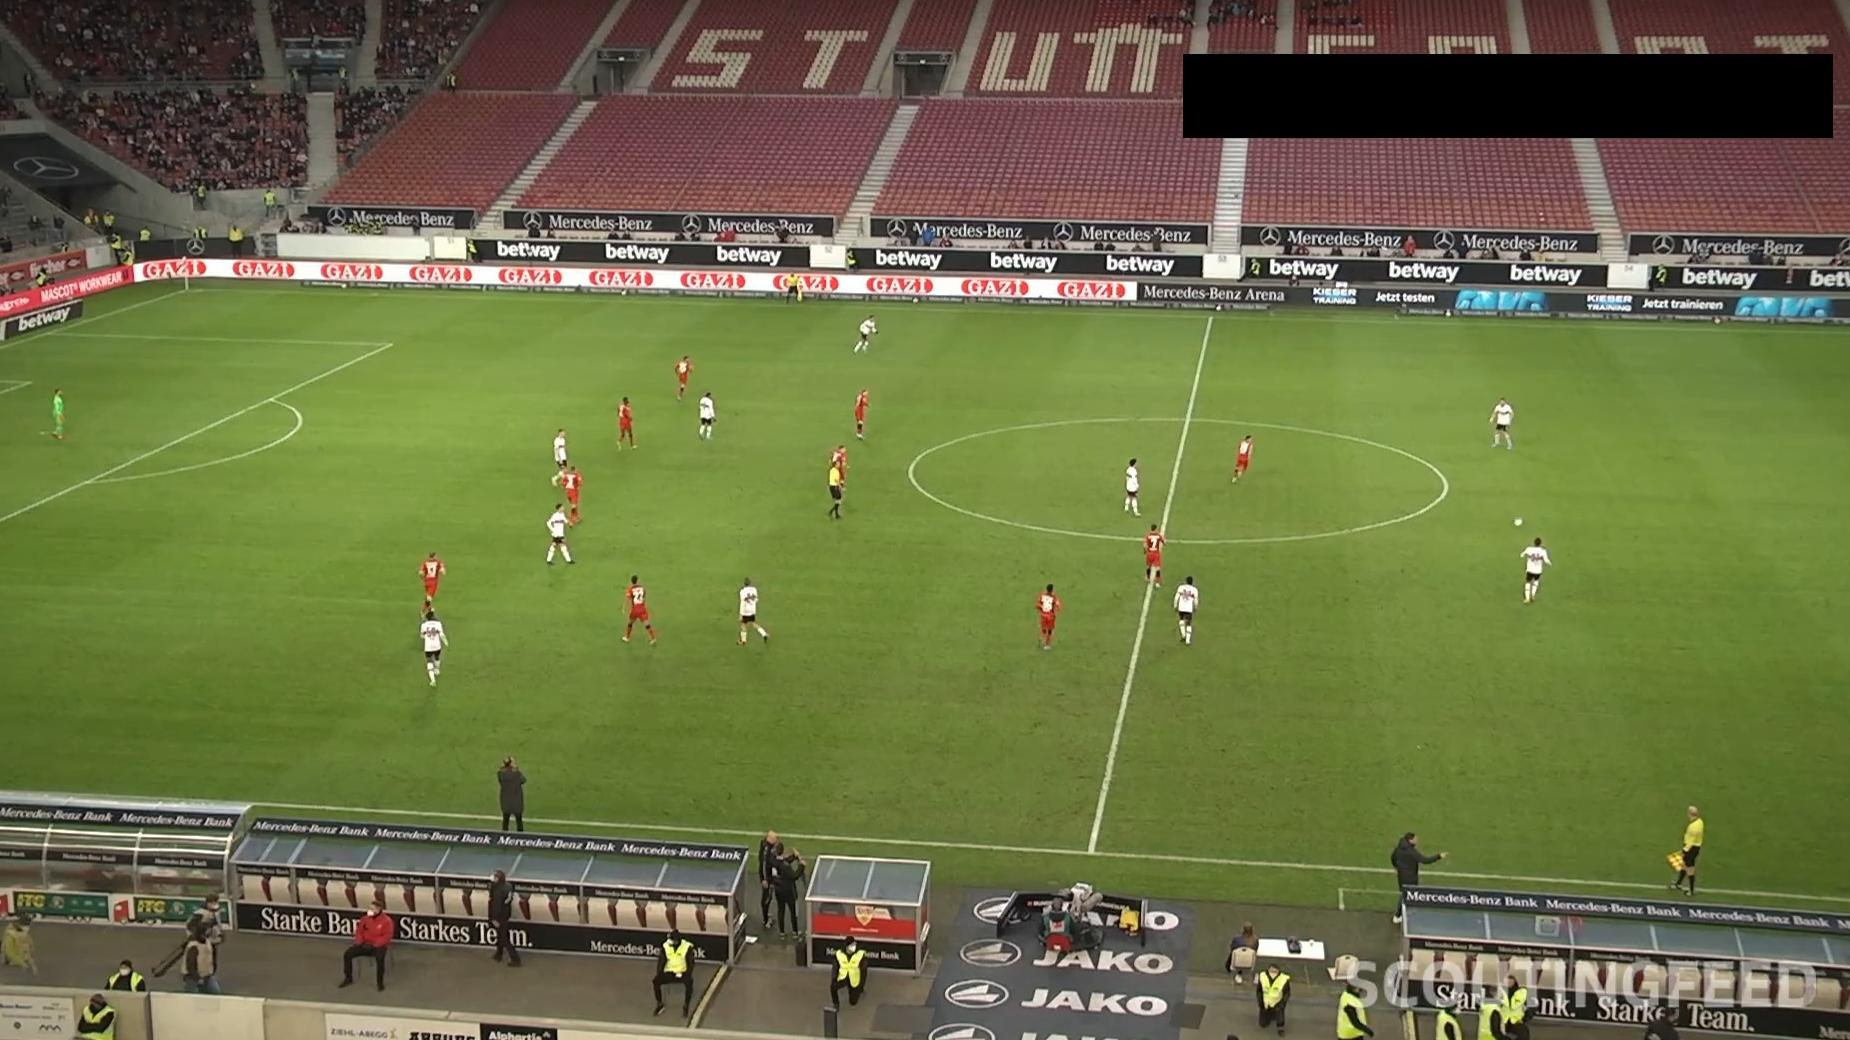ball: (1512, 514, 1525, 528)
